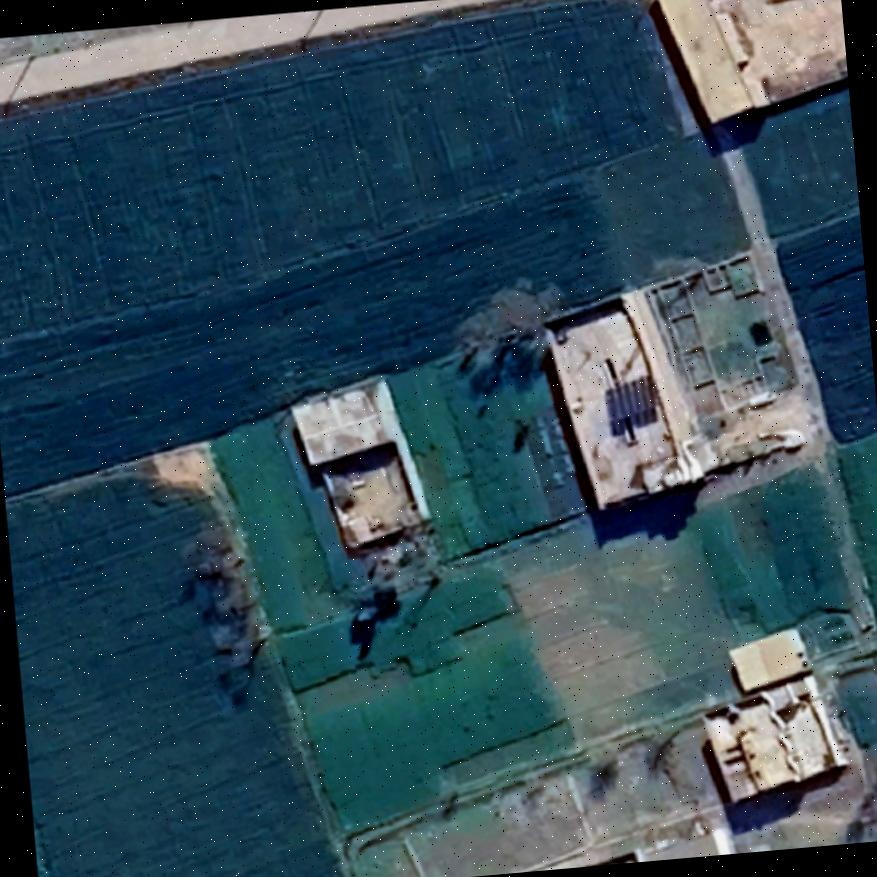Solarpanel: (600, 371, 663, 435)
